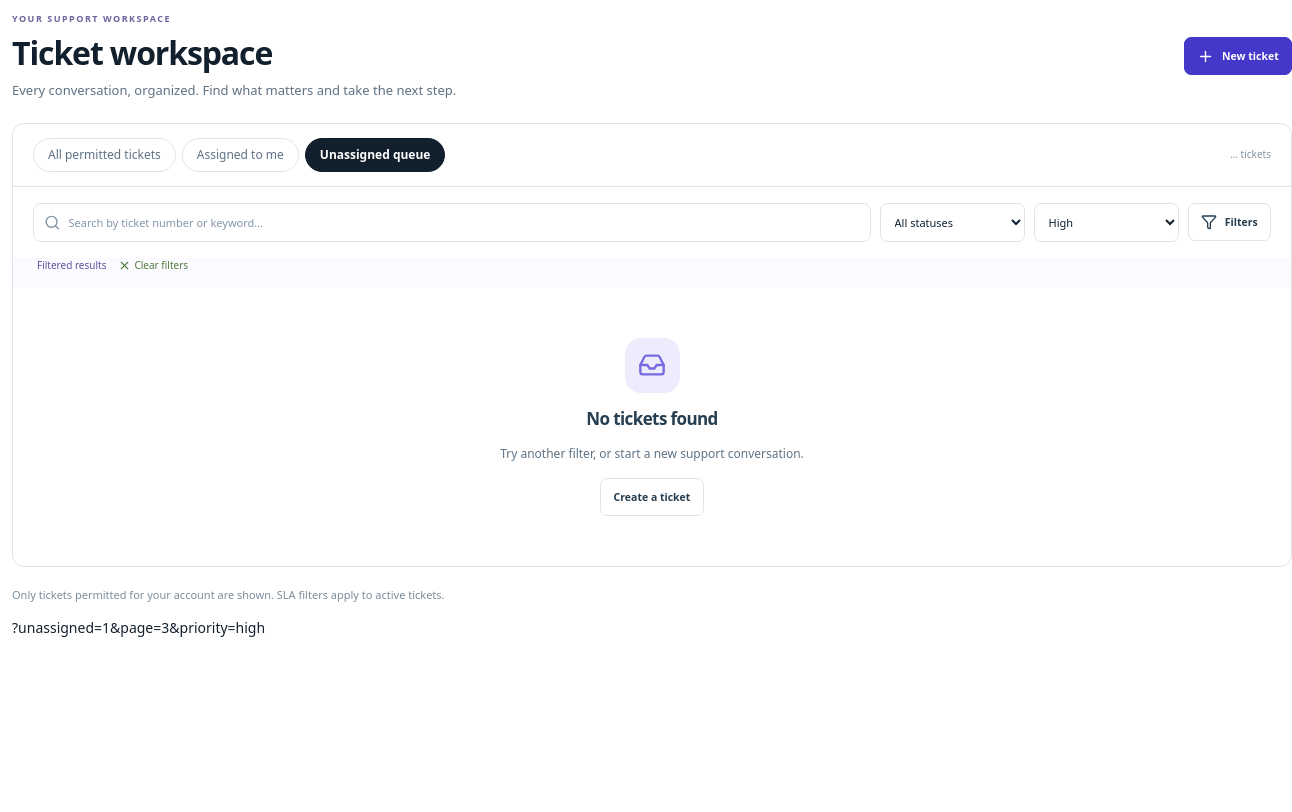
Test case: ticket queue filters › switches Assigned to me atomically
Step 1. Click the button "Assigned to me" → (240, 155), box [182, 138, 299, 172]
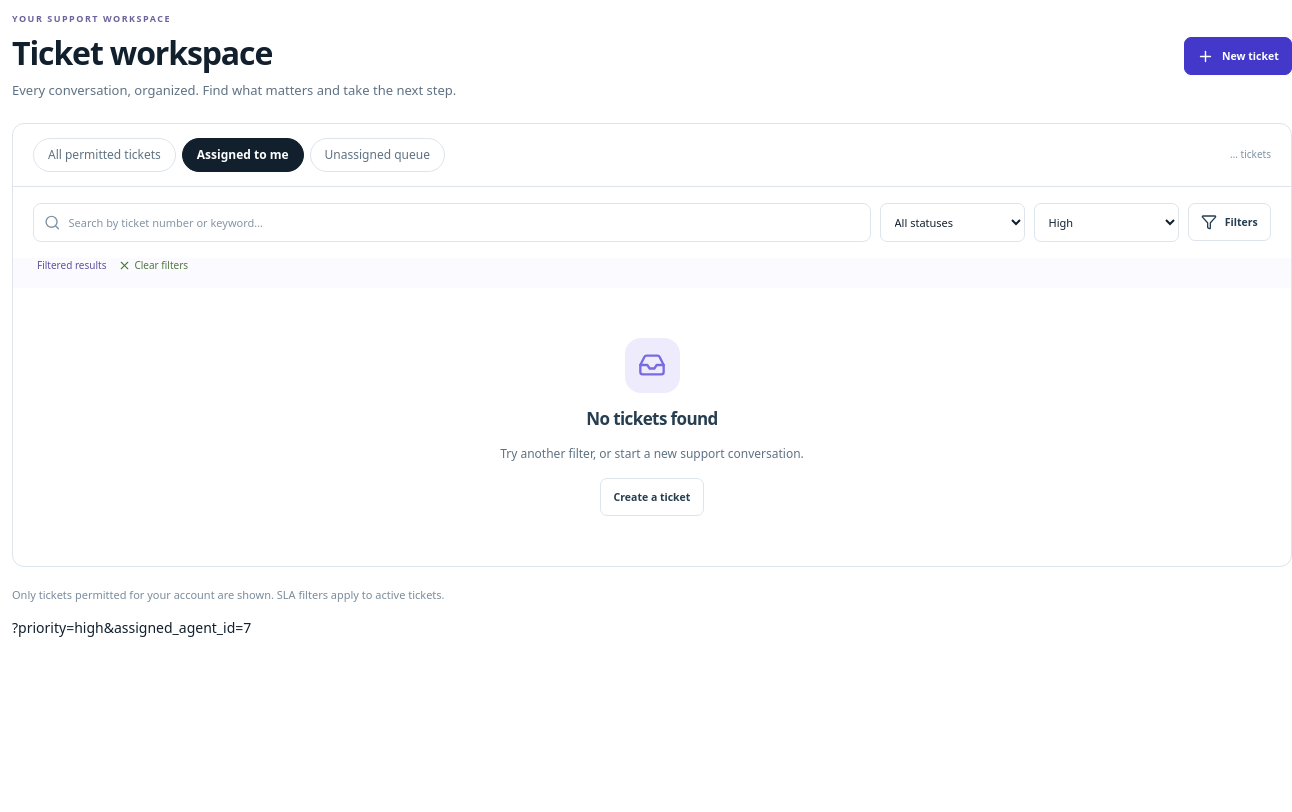
Expected: the text with test id "location" shows "assigned_agent_id=7", [12, 618, 251, 637]
